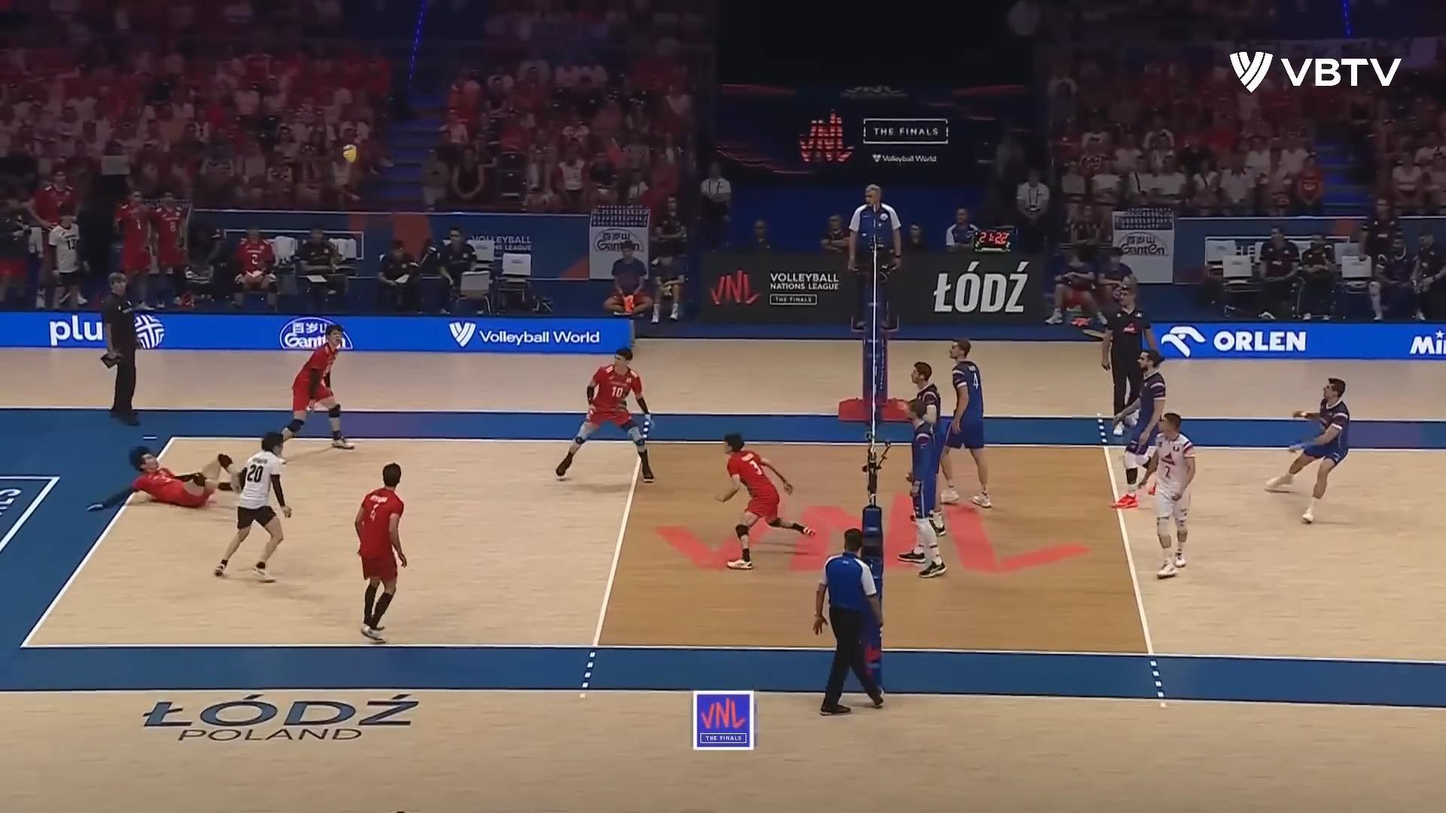ball: (342, 143, 359, 164)
